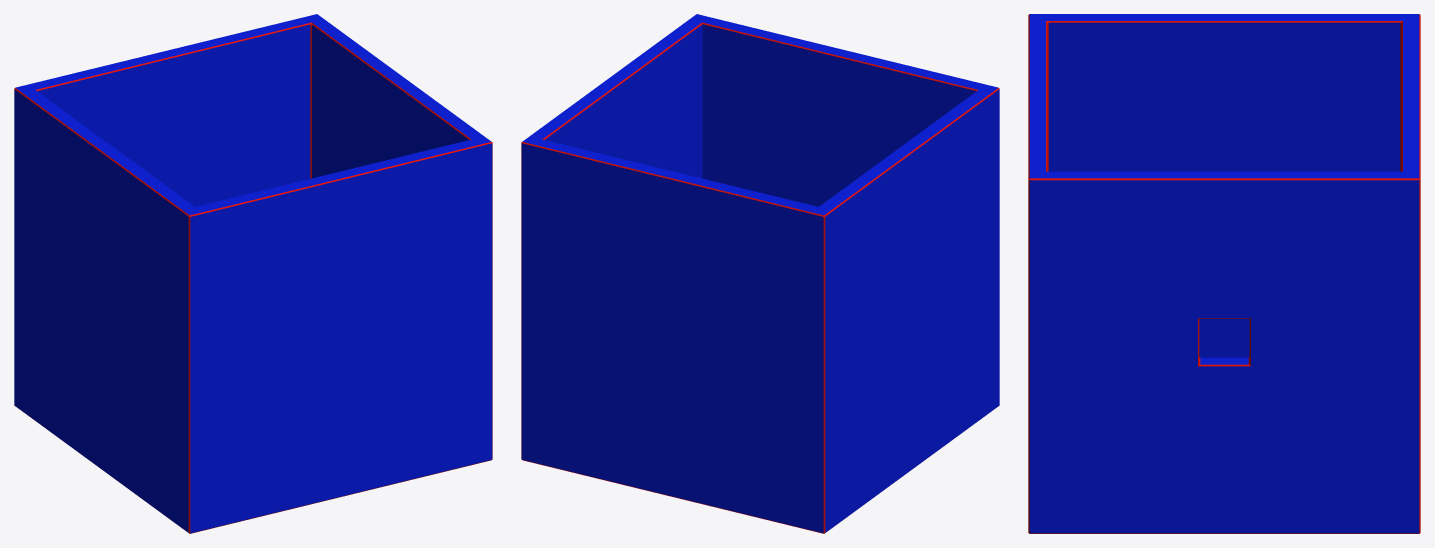
File: L9_MiddleOuterCube_Wall.fbx
3 renders of one model, left to right at view 1: azimuth 30°, elevation 25°; view 2: azimuth 150°, elevation 25°; view 3: azimuth 270°, elevation 25°, orthographic. The views are drawn at different scales.
Visible parts, largest first — view 1: L9_MiddleOuterCube_Wall; view 2: L9_MiddleOuterCube_Wall; view 3: L9_MiddleOuterCube_Wall.
Part boxes in pixels (box(x1,y1,x2,y2)): L9_MiddleOuterCube_Wall: box(14, 14, 492, 533); L9_MiddleOuterCube_Wall: box(521, 14, 999, 533); L9_MiddleOuterCube_Wall: box(1028, 14, 1420, 533).
Size of the model in its own units: 1547 by 1549 by 1549.
